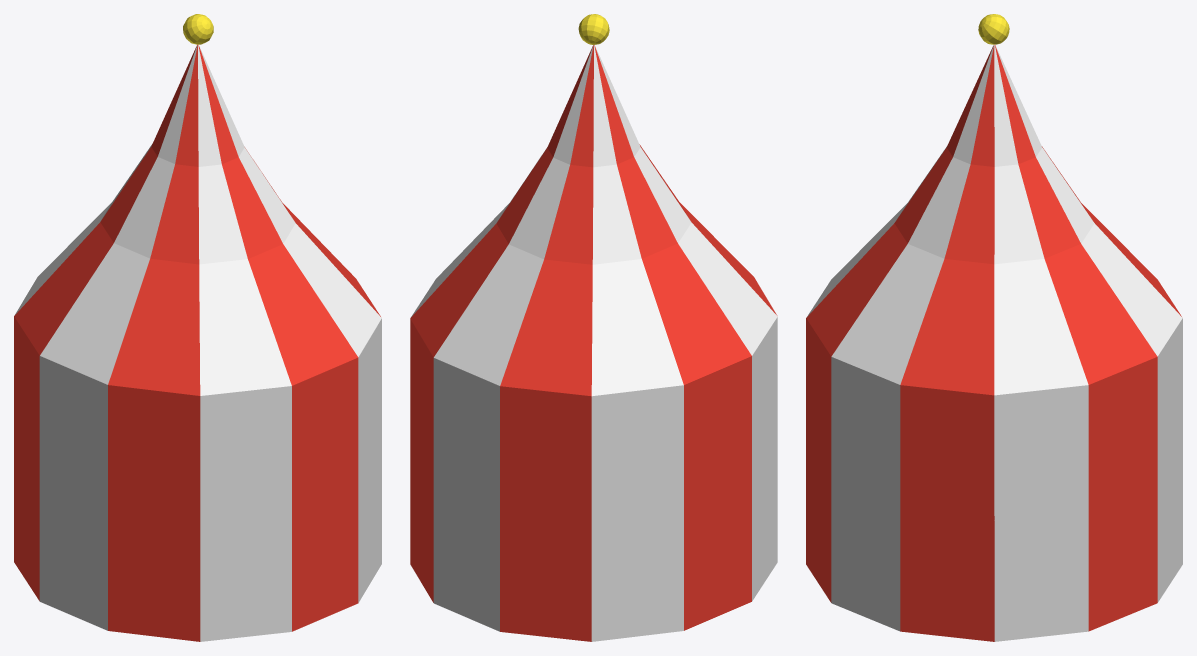
Rendered from Big Top.glb.
The picture shows the model from 3 angles, left to right: view 1: azimuth 30°, elevation 25°; view 2: azimuth 150°, elevation 25°; view 3: azimuth 270°, elevation 25°; orthographic projection.
Parts seen in each view (by area): view 1: Node; view 2: Node; view 3: Node.
Part boxes in pixels (x1=…): Node: x1=14, y1=14, x2=381, y2=641; Node: x1=410, y1=14, x2=777, y2=641; Node: x1=806, y1=14, x2=1182, y2=641.
Size of the model in its own units: 0.35 by 0.5789 by 0.36.
